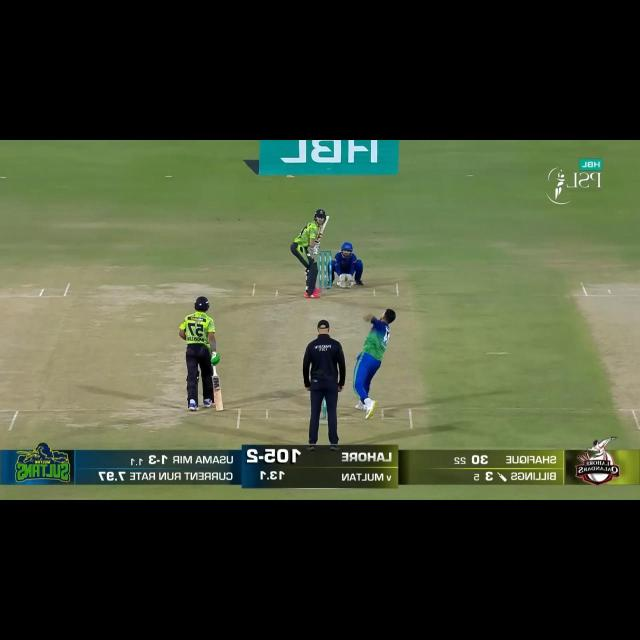bat: (210, 374, 225, 413), (317, 213, 332, 241)
toe: (213, 405, 224, 412), (323, 216, 330, 220)
